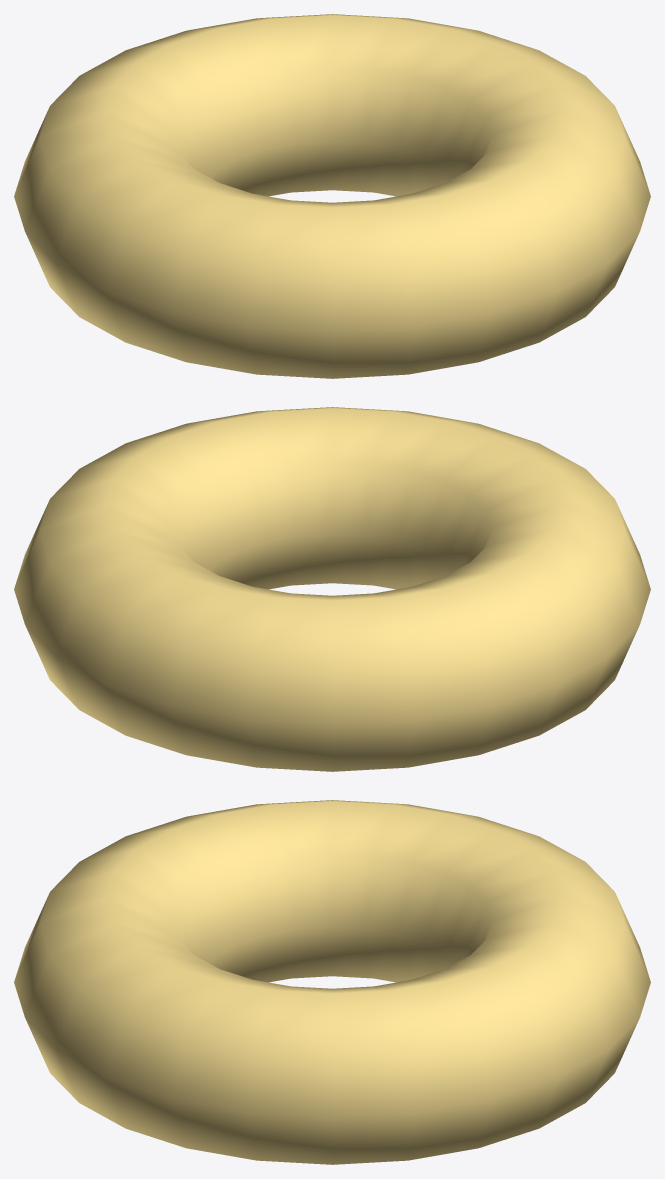
The model's file is shockwave.dae.
The picture shows the model from 3 angles, top to bottom: view 1: azimuth 30°, elevation 25°; view 2: azimuth 150°, elevation 25°; view 3: azimuth 270°, elevation 25°; orthographic projection.
Parts seen in each view (by area): view 1: Shockwave; view 2: Shockwave; view 3: Shockwave.
Boxes of the visible parts, <box> form: Shockwave: <box>14,14,650,378</box>; Shockwave: <box>14,407,650,771</box>; Shockwave: <box>14,800,650,1164</box>.
Size of the model in its own units: 0.473 by 0.473 by 0.1391.
